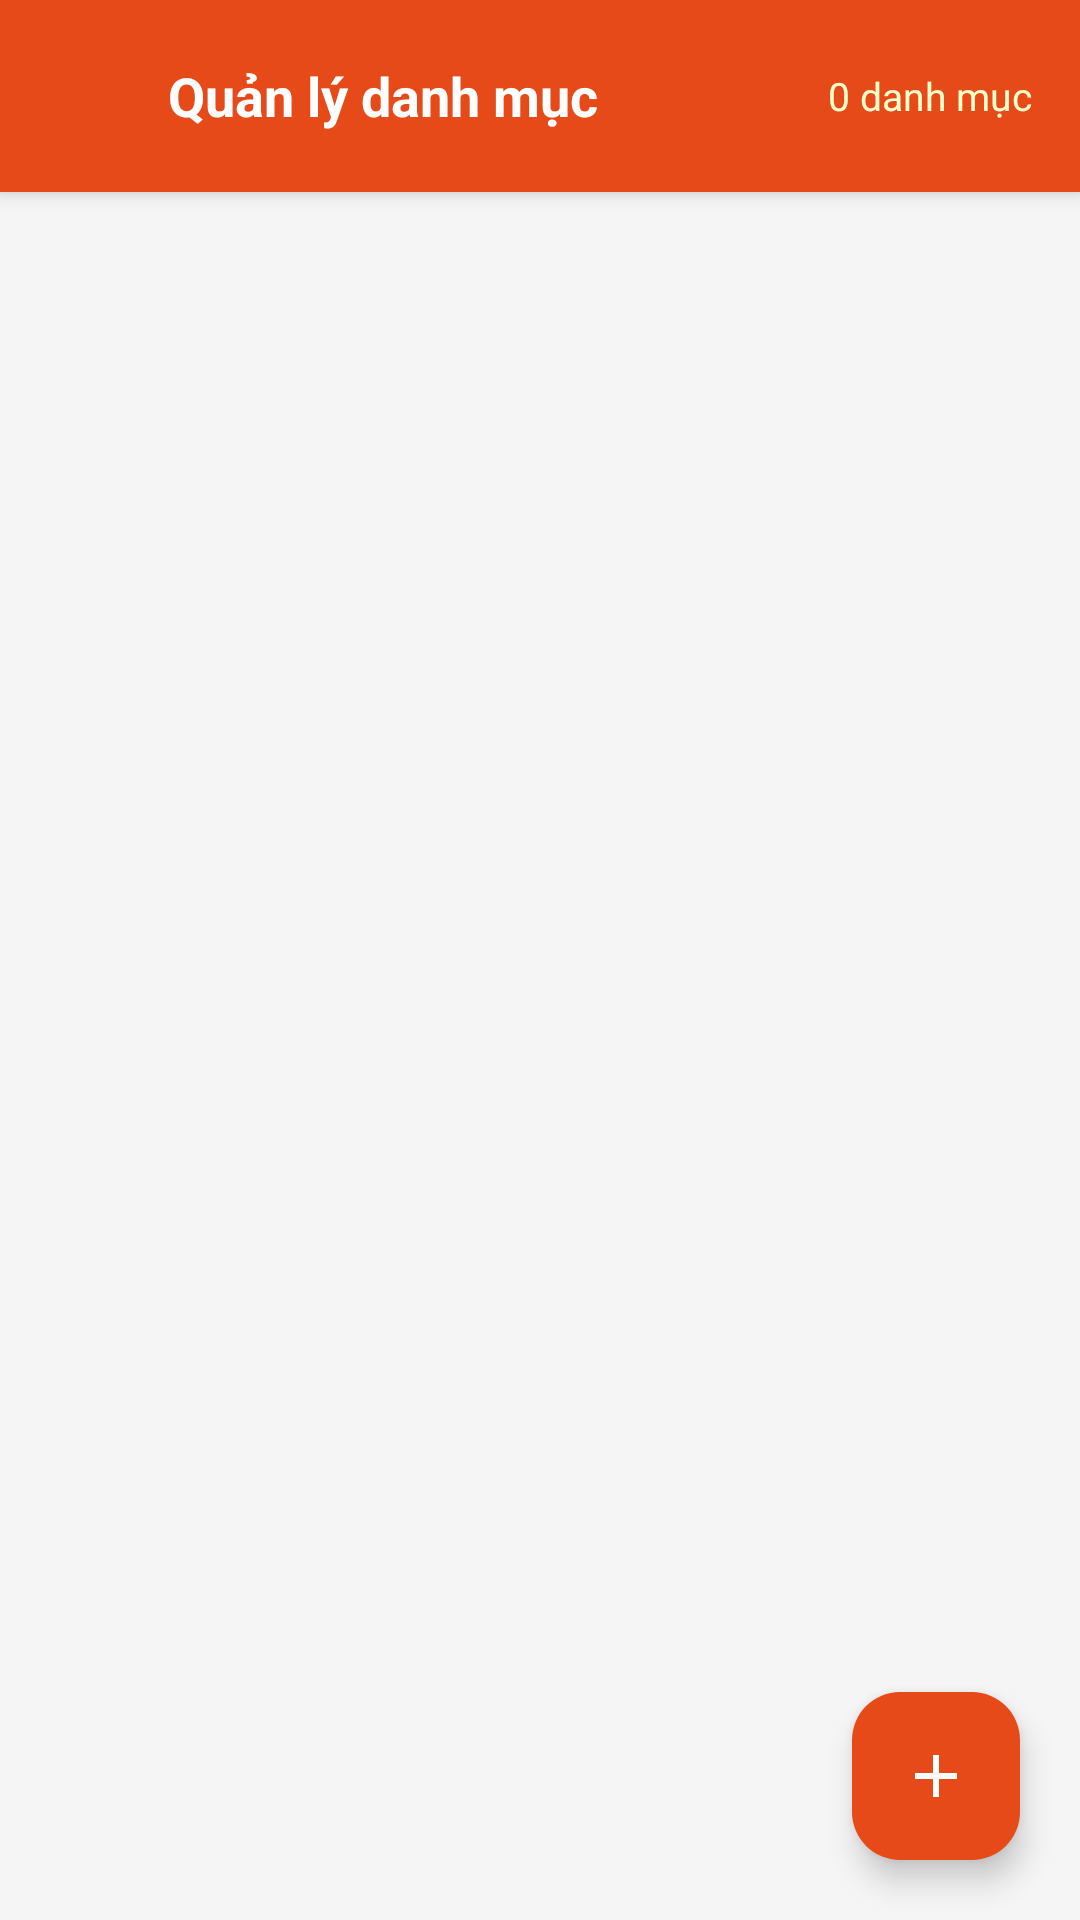

Icons on this 1080 × 1920 Android screen, each with the point to tap as (x=x, y=y):
Thêm danh mục: (x=936, y=1776)
